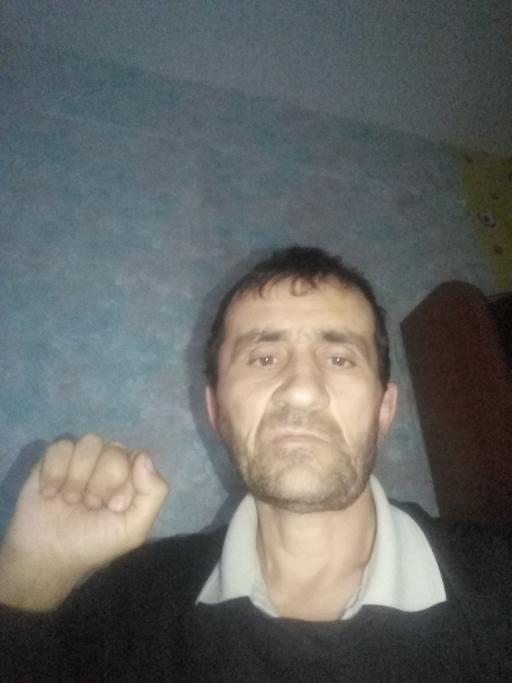fist: (5, 427, 171, 583)
